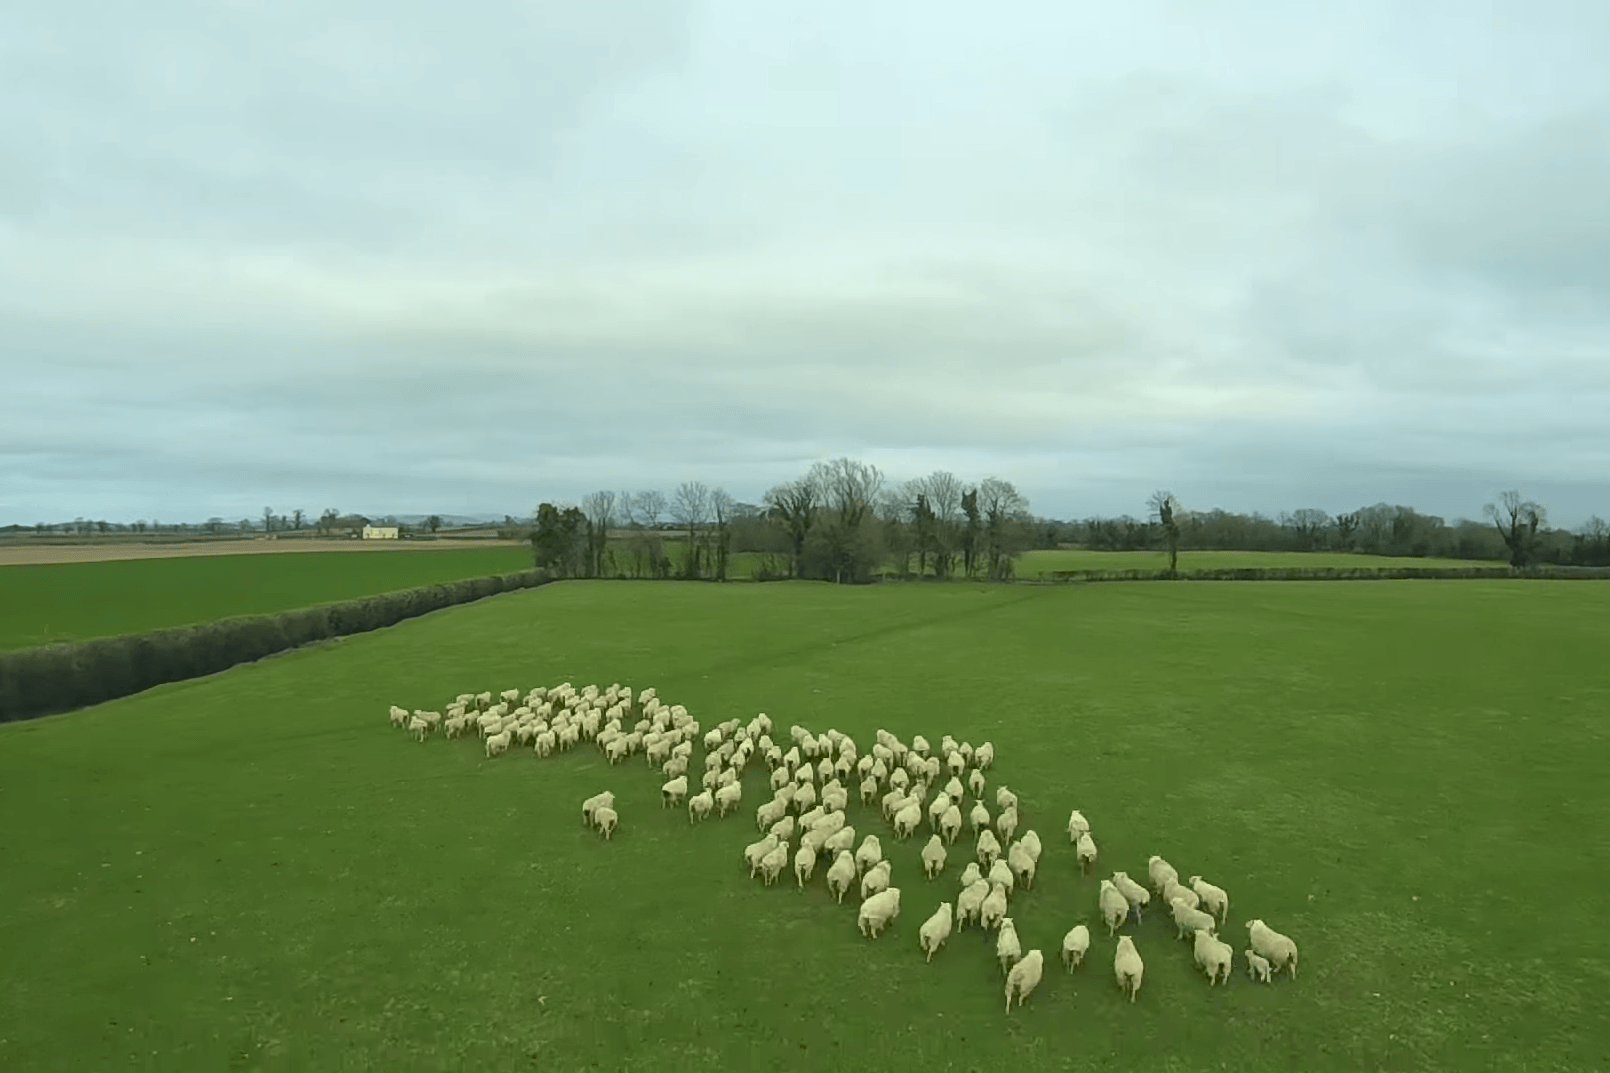sheep: (1247, 919, 1301, 975), (1191, 929, 1237, 992), (1003, 948, 1045, 1011), (1112, 934, 1144, 1002), (916, 902, 954, 957), (1007, 839, 1039, 895), (1098, 880, 1130, 934), (995, 916, 1022, 977), (740, 832, 776, 875), (825, 851, 853, 905), (1061, 921, 1090, 972), (918, 833, 949, 881), (763, 839, 790, 887), (792, 838, 816, 889), (713, 780, 742, 817), (974, 830, 1002, 867), (966, 799, 992, 837), (757, 798, 786, 830), (594, 806, 621, 839), (689, 789, 715, 822), (662, 777, 689, 806), (1069, 810, 1090, 845), (484, 729, 511, 757), (606, 734, 626, 770), (535, 729, 558, 760), (645, 739, 674, 763), (802, 729, 822, 759), (408, 713, 429, 742), (871, 742, 895, 766), (389, 702, 409, 729), (859, 775, 877, 805), (561, 725, 578, 754), (970, 770, 985, 800), (948, 748, 965, 775), (642, 696, 661, 717), (757, 734, 774, 754), (705, 731, 723, 751), (499, 689, 520, 704)
